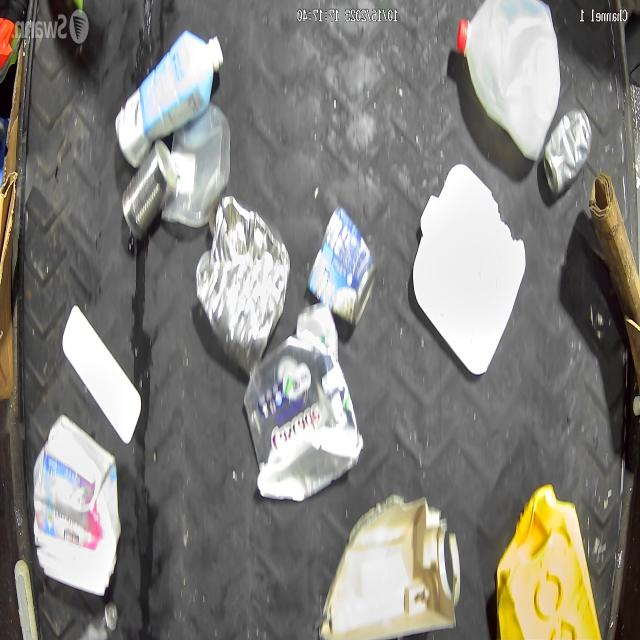can: (304, 202, 378, 326), (117, 135, 178, 247), (536, 106, 594, 198)
milk_jug: (31, 408, 122, 600), (456, 0, 559, 160)
non_white_jug: (492, 482, 604, 640)
